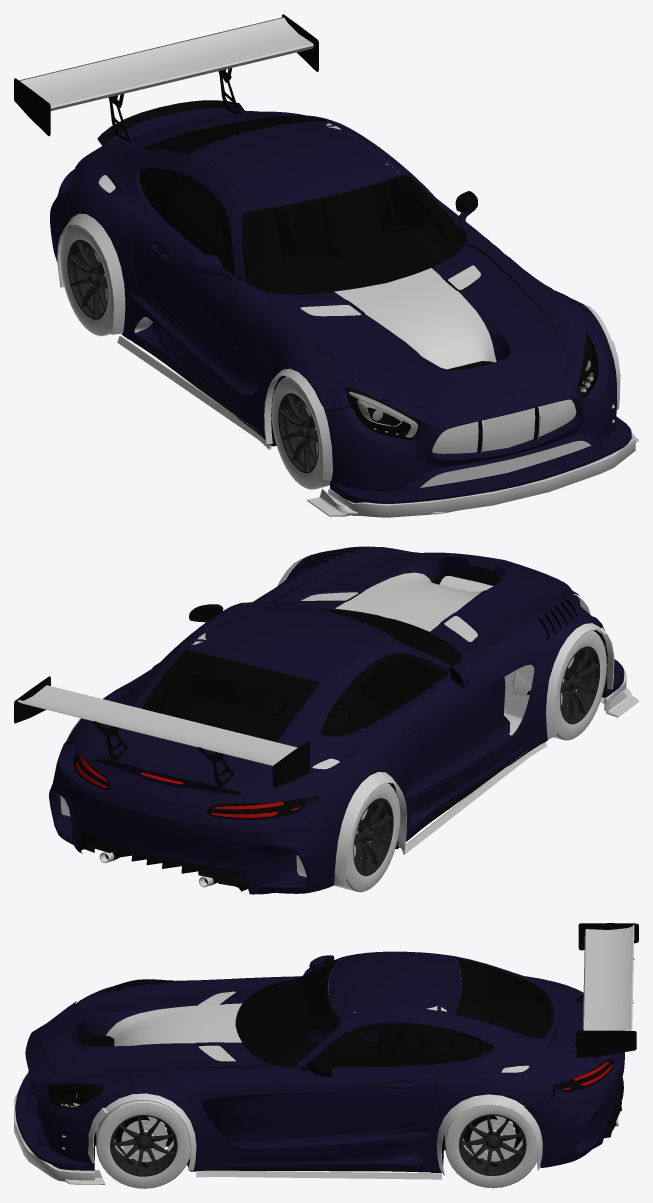
The model's file is sportcar1-cgtrader.obj.
3 renders of one model, top to bottom at view 1: azimuth 30°, elevation 25°; view 2: azimuth 150°, elevation 25°; view 3: azimuth 270°, elevation 25°, orthographic. The views are drawn at different scales.
Visible parts, largest first — view 1: Body, Spoiler2, Hood, Hood1, Skirt2, WheelRR, WheelFR, FrontBumper2, Skirt, Spoiler1, FrontBumper; view 2: Body, Hood, Spoiler2, Hood1, WheelFR, Skirt2, WheelRR, Skirt, Spoiler1, FrontBumper; view 3: Body, Hood, Spoiler2, WheelFL, WheelRL, Hood1, Skirt2, Skirt, FrontBumper2.
Part boxes in pixels (bbox=[...]): Body: bbox=[50, 108, 631, 503]; Spoiler2: bbox=[14, 14, 318, 141]; Hood: bbox=[188, 121, 494, 369]; Hood1: bbox=[326, 123, 496, 369]; Skirt2: bbox=[57, 213, 620, 480]; WheelRR: bbox=[60, 225, 113, 336]; WheelFR: bbox=[271, 377, 329, 489]; FrontBumper2: bbox=[328, 431, 635, 517]; Skirt: bbox=[117, 336, 271, 449]; Spoiler1: bbox=[97, 100, 244, 145]; FrontBumper: bbox=[307, 404, 638, 516]; Body: bbox=[49, 546, 624, 894]; Hood: bbox=[187, 590, 484, 681]; Spoiler2: bbox=[14, 676, 309, 787]; Hood1: bbox=[191, 572, 494, 644]; WheelFR: bbox=[512, 630, 606, 740]; Skirt2: bbox=[66, 557, 614, 886]; WheelRR: bbox=[334, 783, 400, 892]; Skirt: bbox=[401, 742, 547, 854]; Spoiler1: bbox=[96, 759, 240, 794]; FrontBumper: bbox=[600, 646, 638, 717]; Body: bbox=[15, 951, 624, 1172]; Hood: bbox=[106, 953, 461, 1045]; Spoiler2: bbox=[574, 923, 638, 1057]; WheelFL: bbox=[96, 1100, 190, 1188]; WheelRL: bbox=[445, 1105, 537, 1188]; Hood1: bbox=[106, 960, 461, 1046]; Skirt2: bbox=[88, 980, 542, 1175]; Skirt: bbox=[196, 1170, 441, 1179]; FrontBumper2: bbox=[14, 1076, 94, 1181].
Size of the model in its own units: 9.41 by 5.39 by 19.69.
